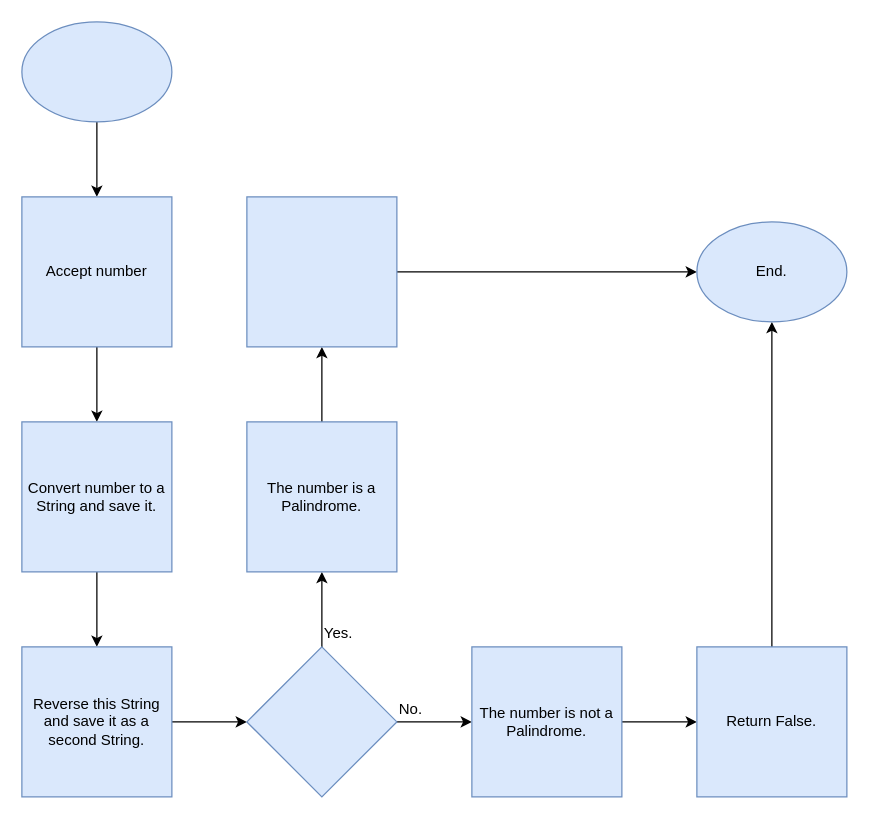
Image size: 869x819. Some labels were removed from this diagram. Each missing label, with the box of its shape:
Are they equal?: (246, 646, 397, 797)
Return True.: (246, 196, 397, 347)
Start: (21, 21, 172, 122)
